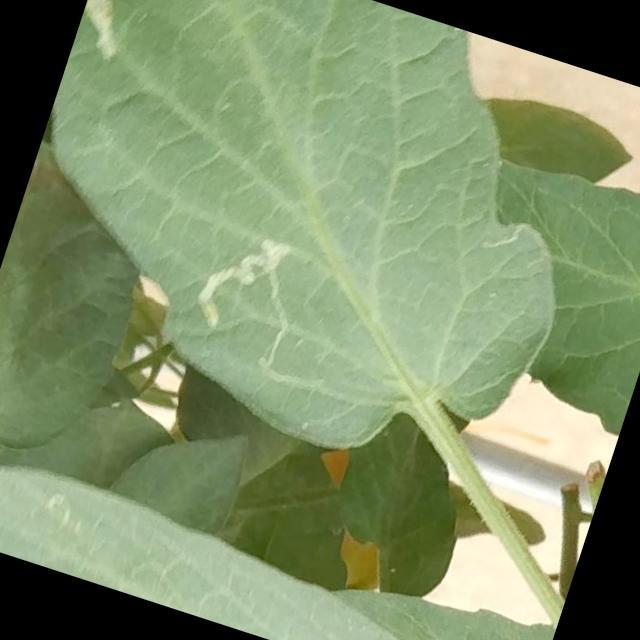Tomato target spot leaf: (0, 0, 628, 506)
